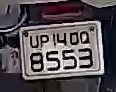1: (49, 31, 58, 48)
3: (77, 49, 97, 72)
4: (57, 32, 68, 48)
5: (59, 48, 78, 70), (44, 51, 63, 72)
8: (28, 52, 46, 76)
D: (69, 30, 81, 48)
P: (40, 34, 51, 49)
Q: (79, 31, 91, 47)
U: (27, 35, 41, 49)
